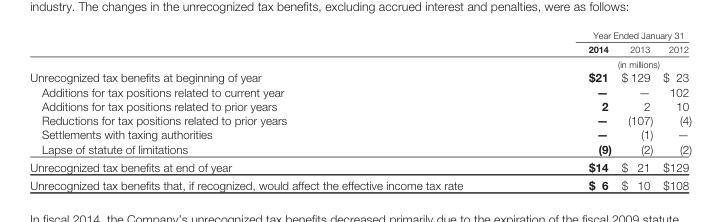table: (29, 28, 691, 191)
table column: (29, 28, 525, 191), (525, 28, 615, 191), (615, 28, 657, 191), (657, 28, 691, 191)
table column header: (29, 28, 691, 69)
table row: (29, 157, 691, 175), (29, 140, 691, 157), (29, 175, 691, 191), (29, 41, 691, 56), (29, 69, 691, 84), (29, 84, 691, 98), (29, 98, 691, 112), (29, 112, 691, 126), (29, 126, 691, 140), (29, 28, 691, 41), (29, 56, 691, 69)
table spanning cell: (525, 28, 691, 41), (525, 56, 691, 69)
